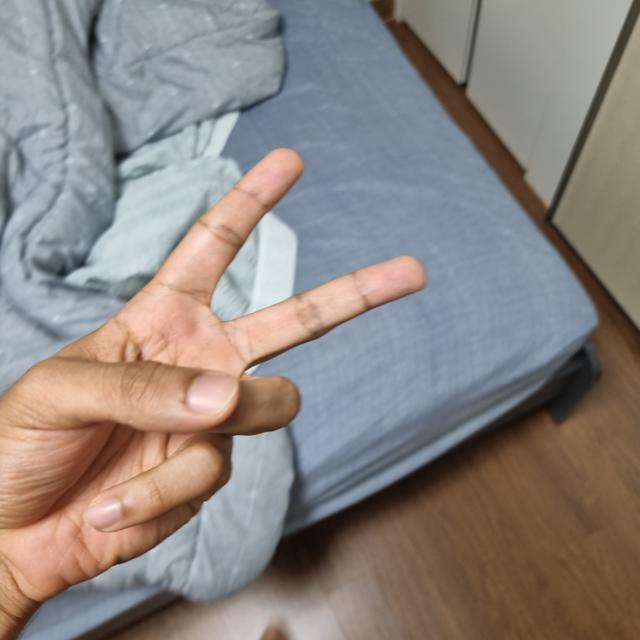Scissors: (1, 153, 420, 616)
